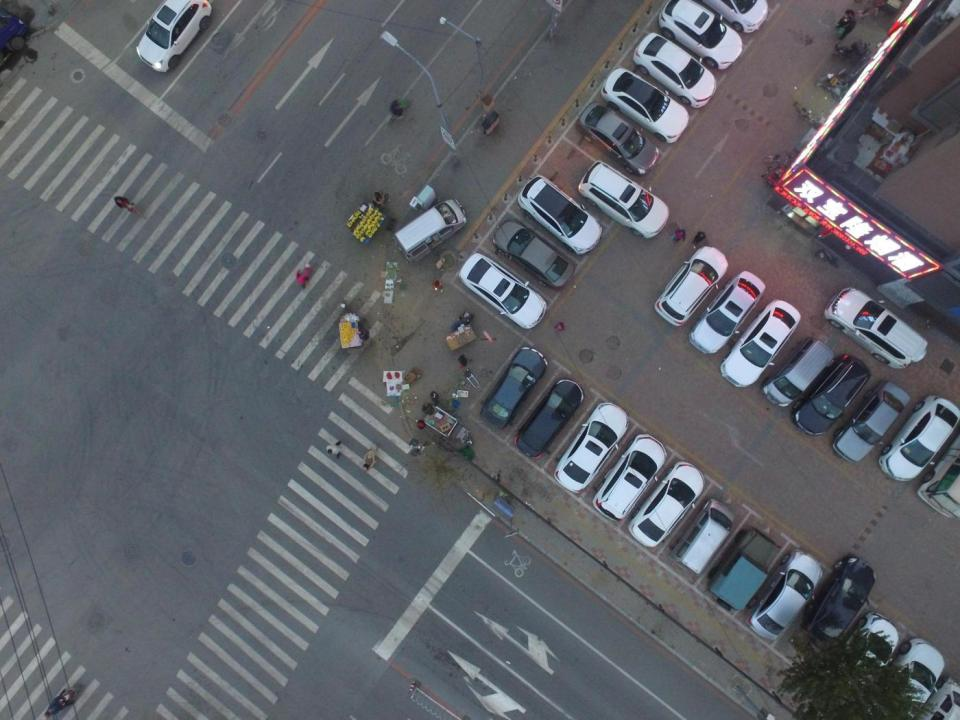car: (720, 297, 801, 391), (745, 548, 824, 642), (576, 160, 670, 238), (556, 399, 630, 497), (879, 396, 960, 483), (628, 460, 706, 549), (592, 434, 666, 526), (460, 251, 548, 328), (689, 270, 766, 357), (834, 379, 910, 466), (599, 69, 688, 143), (796, 354, 872, 440), (824, 613, 897, 702), (631, 34, 716, 110), (519, 176, 601, 254), (803, 558, 874, 648), (654, 247, 730, 328), (578, 100, 659, 174), (492, 218, 576, 289), (657, 0, 742, 70), (514, 378, 586, 460), (479, 346, 546, 431), (136, 0, 212, 72), (880, 636, 946, 708), (698, 0, 769, 37)
van: (823, 286, 932, 369), (710, 526, 779, 614), (396, 197, 474, 262), (674, 494, 736, 574), (766, 339, 832, 409)
